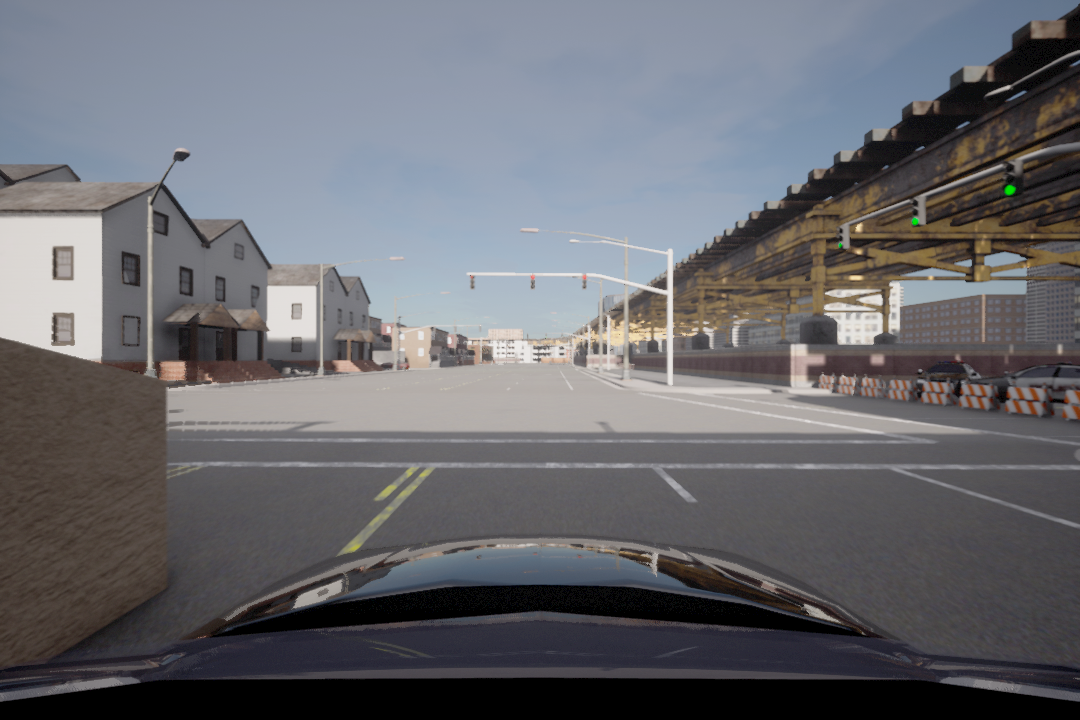TrafficLight: (1002, 155, 1027, 201), (835, 221, 854, 254), (909, 195, 925, 227), (465, 272, 479, 289), (529, 272, 536, 292), (581, 273, 588, 290)
